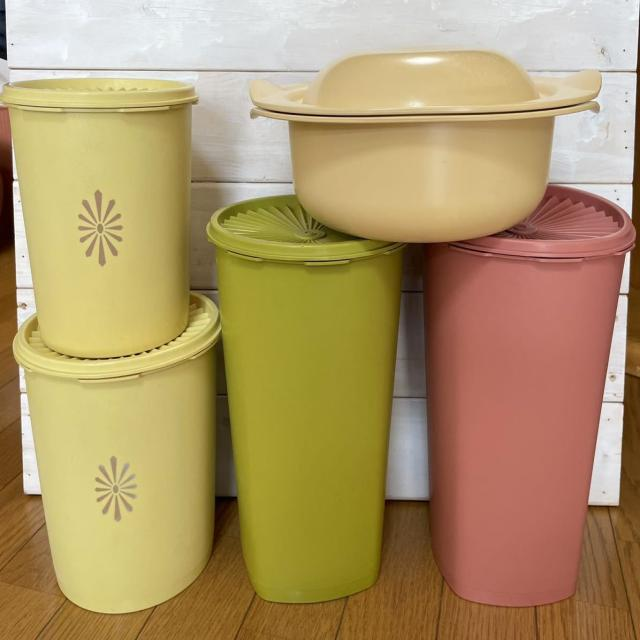plastic: (434, 184, 636, 607), (208, 196, 409, 604), (247, 42, 603, 238), (13, 302, 220, 616), (2, 72, 202, 350)
